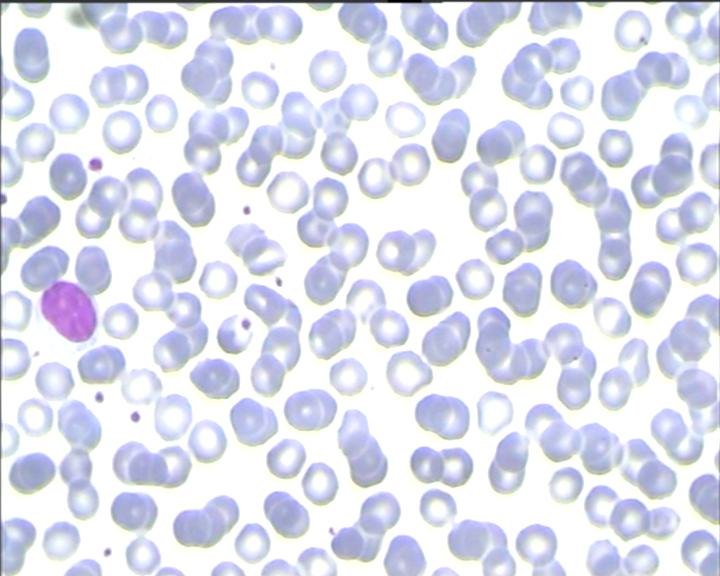lymp: (33, 280, 106, 360)
